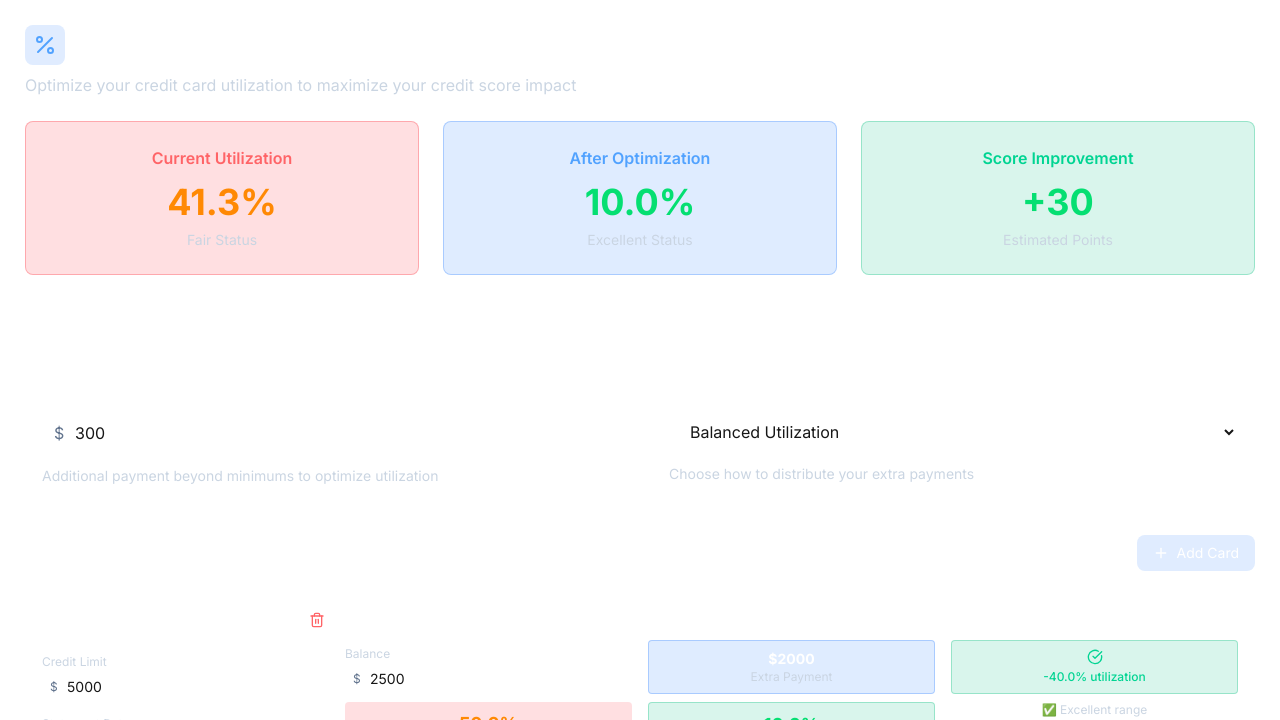
Test: CreditUtilizationCalculator - Enhanced › Functional Operations › removes credit card
Click the button named "Remove Main Credit Card credit card". click: (317, 620)
box: x1=305 y1=608 x2=329 y2=632
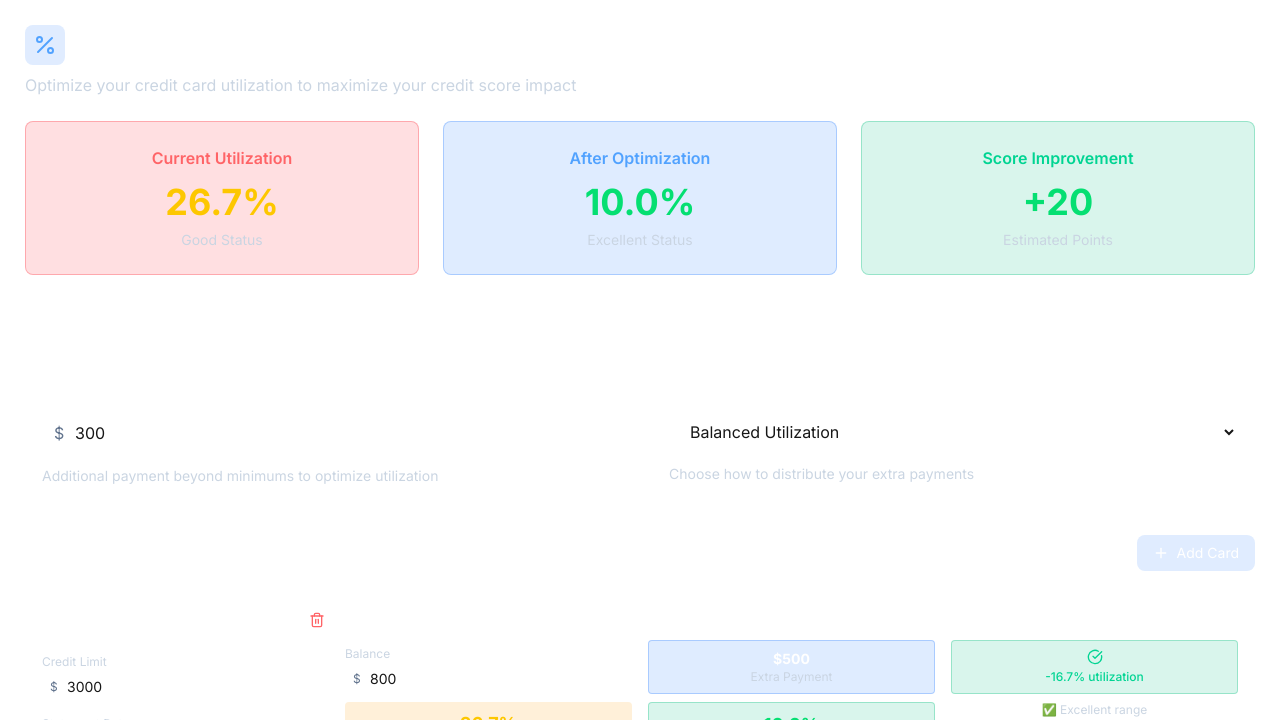
Expected: the field showing "Main Credit Card" is not shown
Now the number of number fields labelled "Credit Limit" is 1, box x1=42 y1=672 x2=329 y2=702
